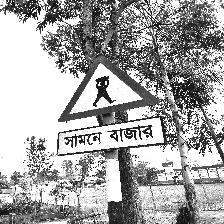Market-in-front: (56, 56, 168, 158)
